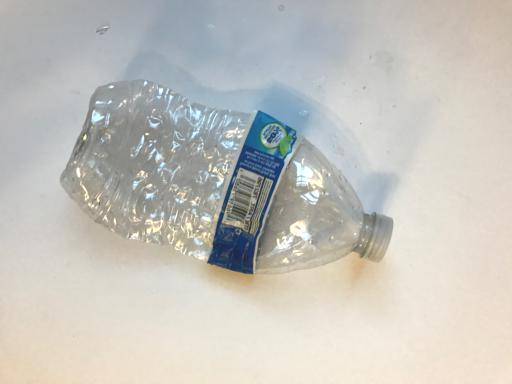bottle: (56, 76, 402, 288)
